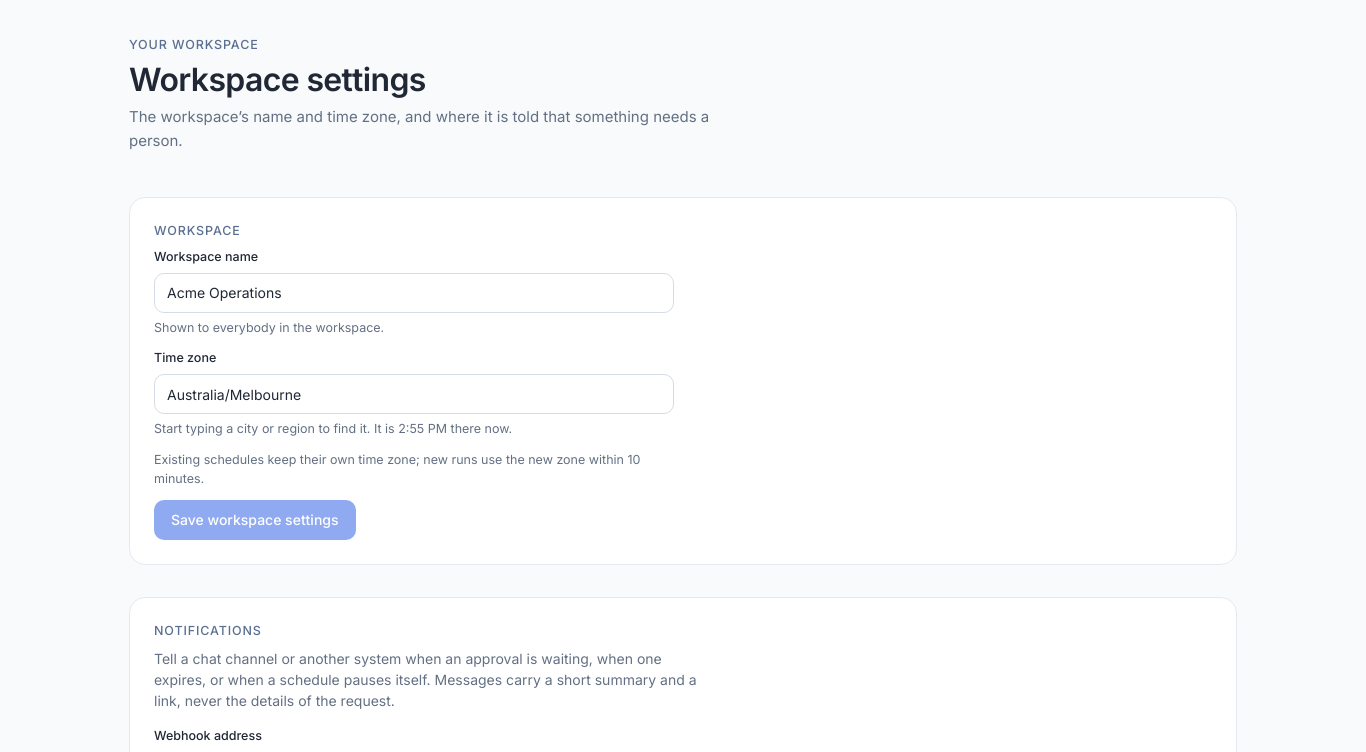
workspace name and time zone › shows the service’s own complaint beside the field it names
Expected: the field labelled "Workspace name" is shown, [154, 273, 674, 313]
Replace the text in the field labelled "Time zone" with "Europe/London" at (414, 394), box [154, 374, 674, 414]
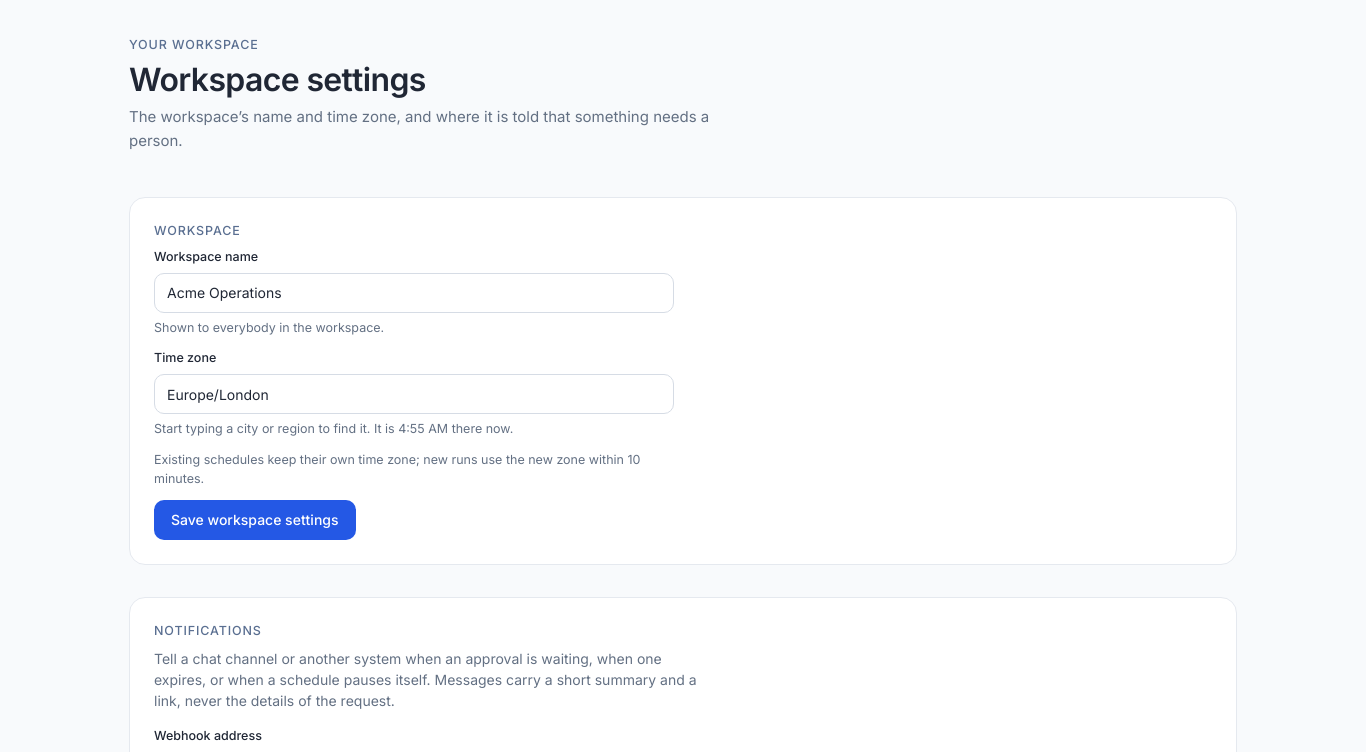
Click the button "Save workspace settings".
click(255, 520)  # box [154, 500, 356, 540]
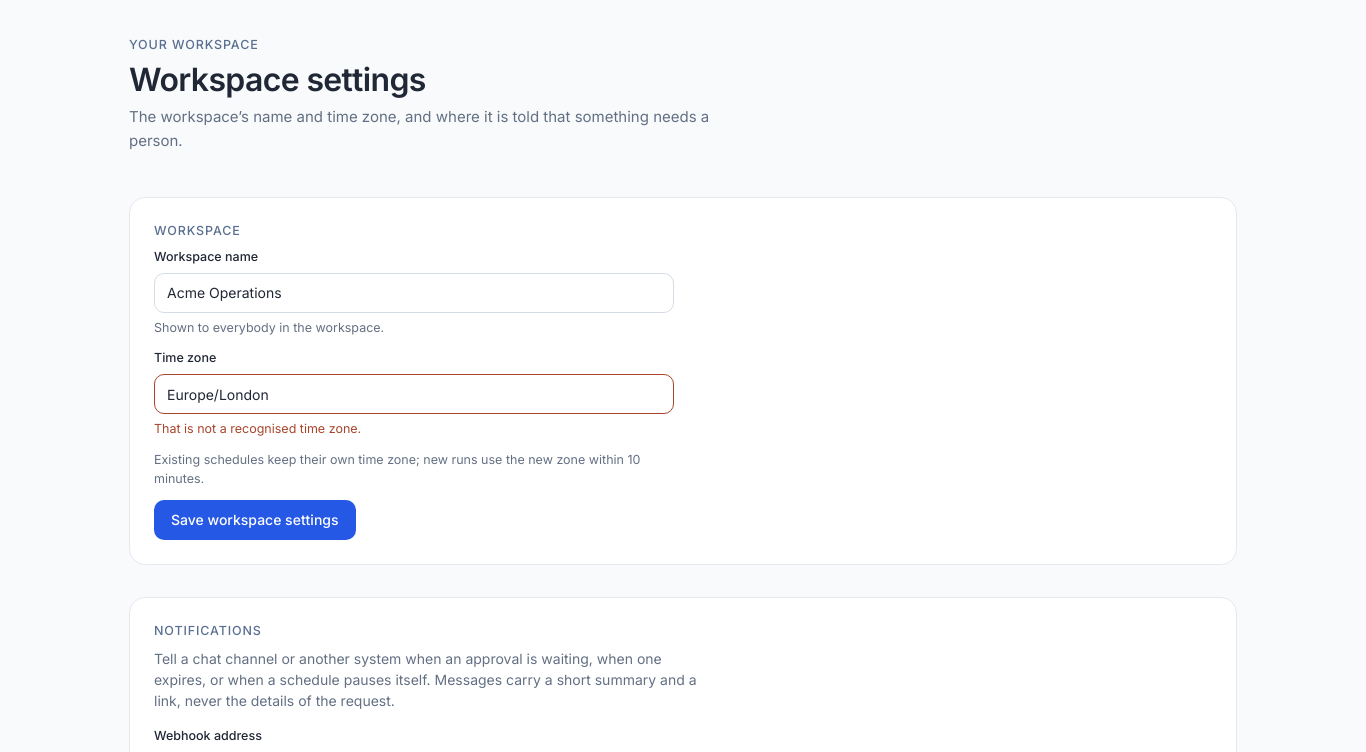
Now the text "That is not a recognised time zone." is shown, box [154, 421, 361, 436]
